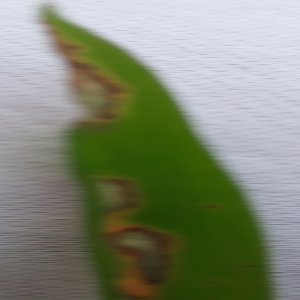Rice_Blast: (98, 224, 176, 286), (92, 154, 147, 221)
